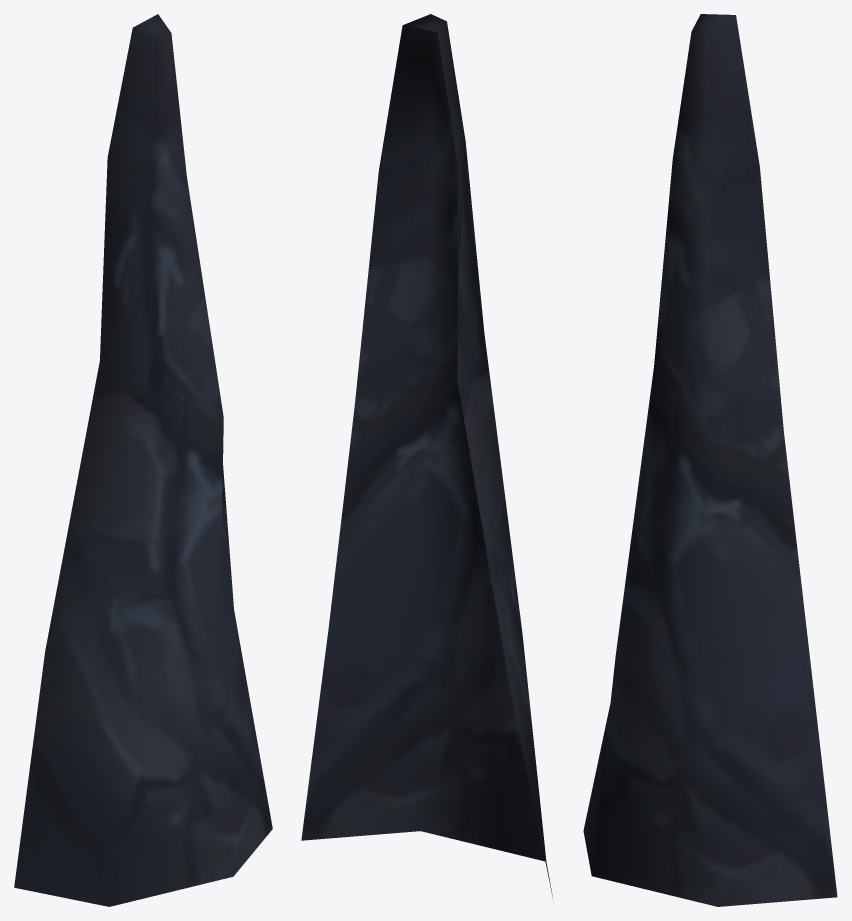
File: sn_jiguan_shanshi_005.FBX
The picture shows the model from 3 angles, left to right: view 1: azimuth 30°, elevation 25°; view 2: azimuth 150°, elevation 25°; view 3: azimuth 330°, elevation 25°; orthographic projection.
Visible parts, largest first — view 1: sn_jiguan_shanshi_005; view 2: sn_jiguan_shanshi_005; view 3: sn_jiguan_shanshi_005.
Part boxes in pixels (x1=…): sn_jiguan_shanshi_005: x1=14, y1=14, x2=272, y2=906; sn_jiguan_shanshi_005: x1=301, y1=14, x2=553, y2=899; sn_jiguan_shanshi_005: x1=583, y1=14, x2=837, y2=906.
Bounding box in the file's own units: 142 × 447 × 49.52.
